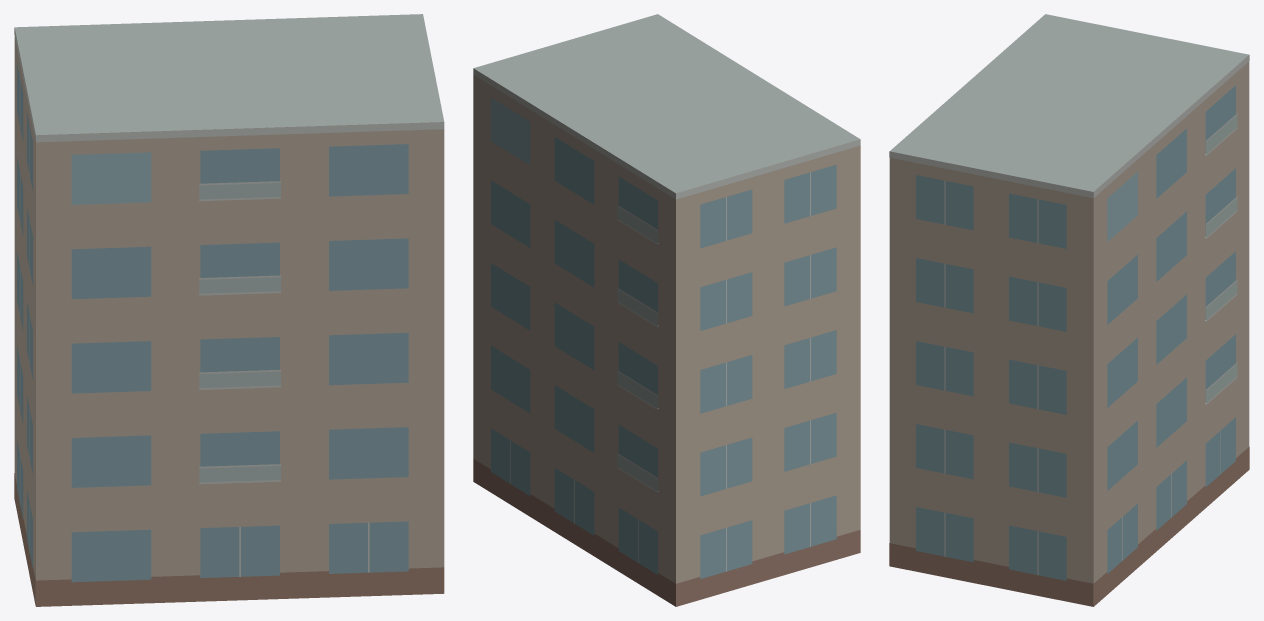
File: survey-upis-32632493.glb
3 views of the same model, side by side, from view 1: azimuth 30°, elevation 25°; view 2: azimuth 150°, elevation 25°; view 3: azimuth 270°, elevation 25° (orthographic). The views are drawn at different scales.
Parts seen in each view (by area): view 1: survey-upis-32632493.tmp; view 2: survey-upis-32632493.tmp; view 3: survey-upis-32632493.tmp.
Boxes of the visible parts, left/top/right/bottom form: survey-upis-32632493.tmp: left=14, top=14, right=444, bottom=606; survey-upis-32632493.tmp: left=473, top=14, right=860, bottom=606; survey-upis-32632493.tmp: left=889, top=14, right=1249, bottom=606.
Size of the model in its own units: 14.81 by 16.1 by 12.67.
